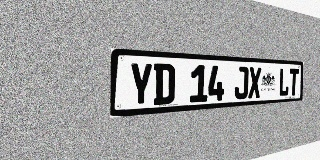1: (190, 65, 208, 103)
4: (208, 65, 225, 101)
D: (153, 63, 175, 105)
J: (234, 66, 249, 100)
L: (278, 68, 289, 97)
T: (289, 68, 299, 96)
X: (248, 67, 261, 99)
Y: (129, 62, 153, 107)
